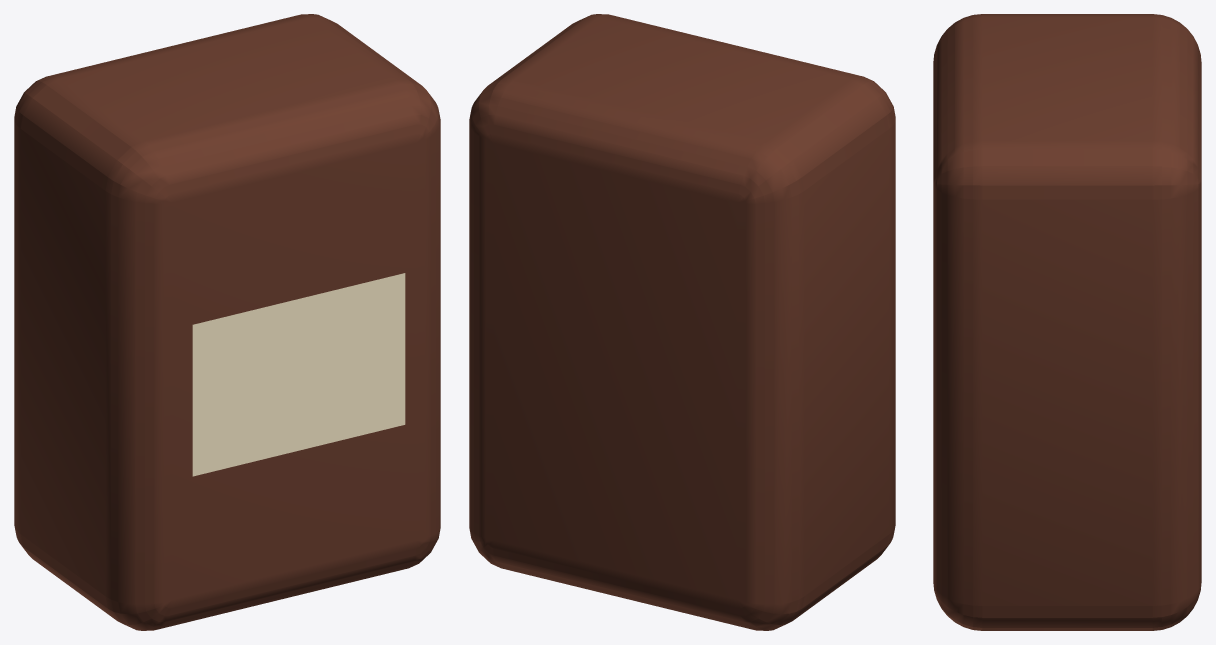
The model's file is product-coffee.glb.
3 views of the same model, side by side, from view 1: azimuth 30°, elevation 25°; view 2: azimuth 150°, elevation 25°; view 3: azimuth 270°, elevation 25° (orthographic).
Parts seen in each view (by area): view 1: n3, n4; view 2: n3; view 3: n3.
Part boxes in pixels (bbox=[...]): n3: bbox=[14, 14, 440, 630]; n4: bbox=[192, 273, 405, 476]; n3: bbox=[469, 14, 895, 630]; n3: bbox=[933, 14, 1201, 630].
Size of the model in its own units: 0.17 by 0.24 by 0.124.
